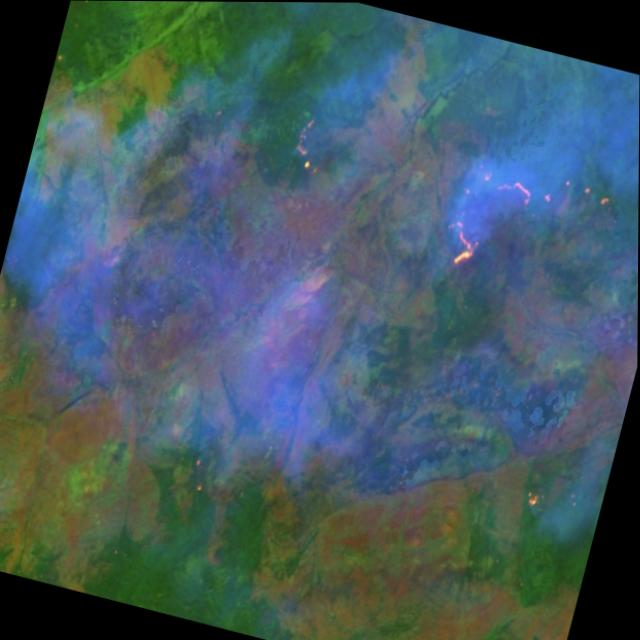fire: (436, 136, 639, 317), (281, 106, 343, 187), (510, 465, 563, 529)
